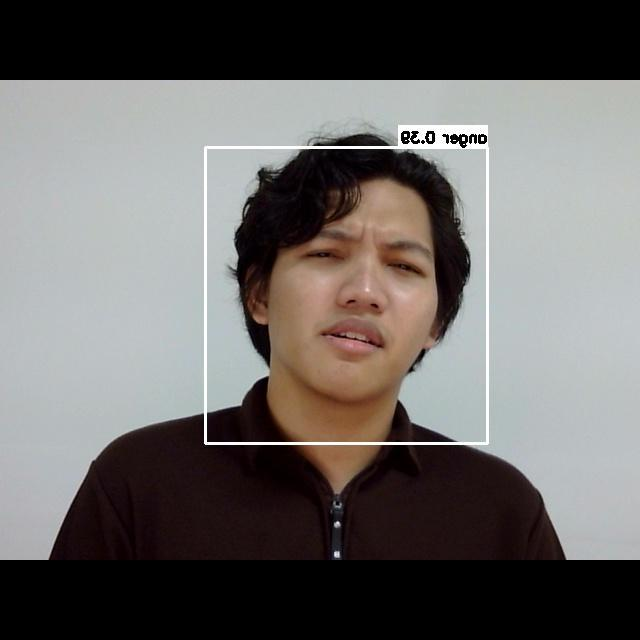Sad: (276, 211, 444, 386)
